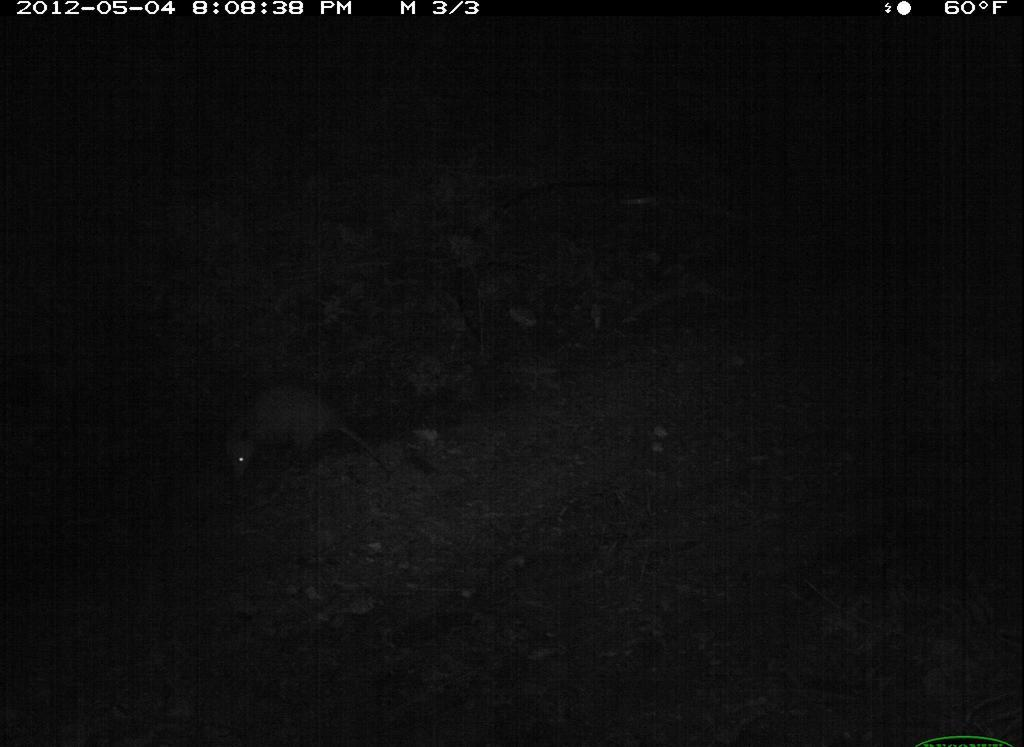opossum: (209, 379, 402, 498)
